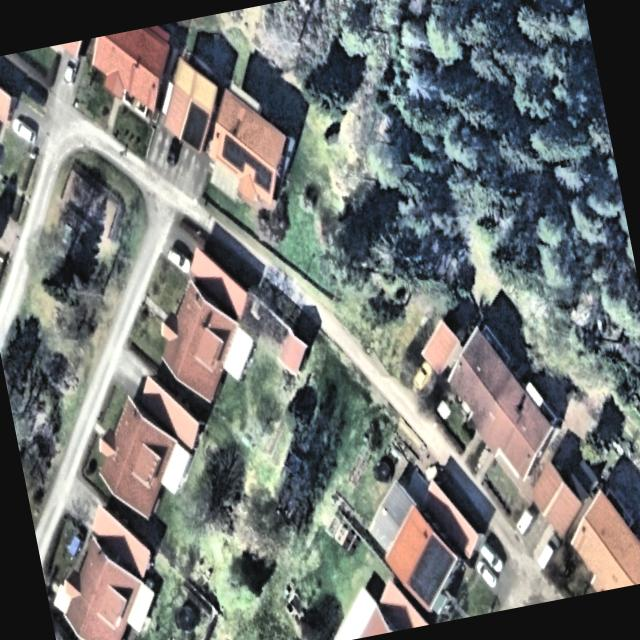roof_pv: (398, 526, 464, 608), (175, 96, 217, 152), (215, 125, 258, 177), (248, 153, 278, 199)
